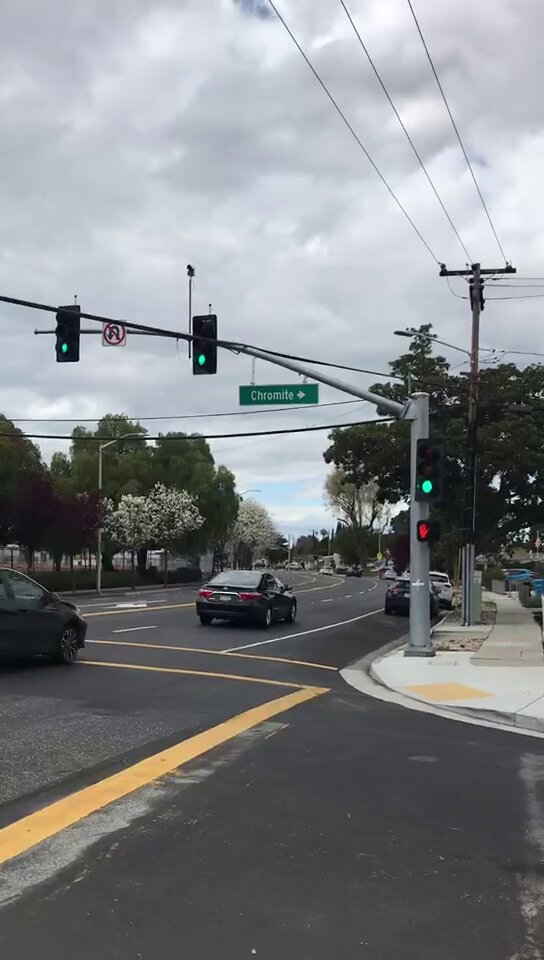green_light: (419, 439, 442, 501), (56, 305, 80, 363), (194, 317, 216, 372)
